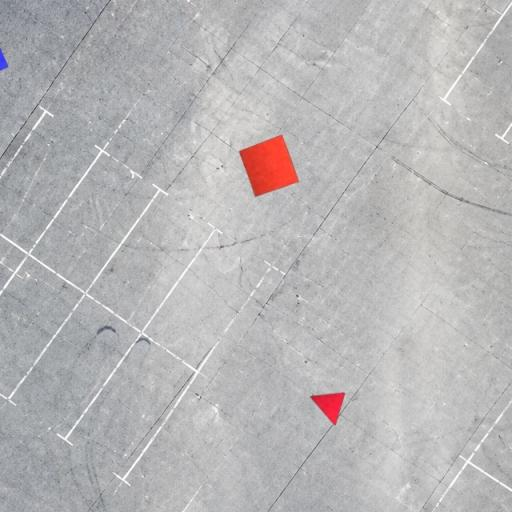RED_SQUARE: (238, 134, 300, 198)
